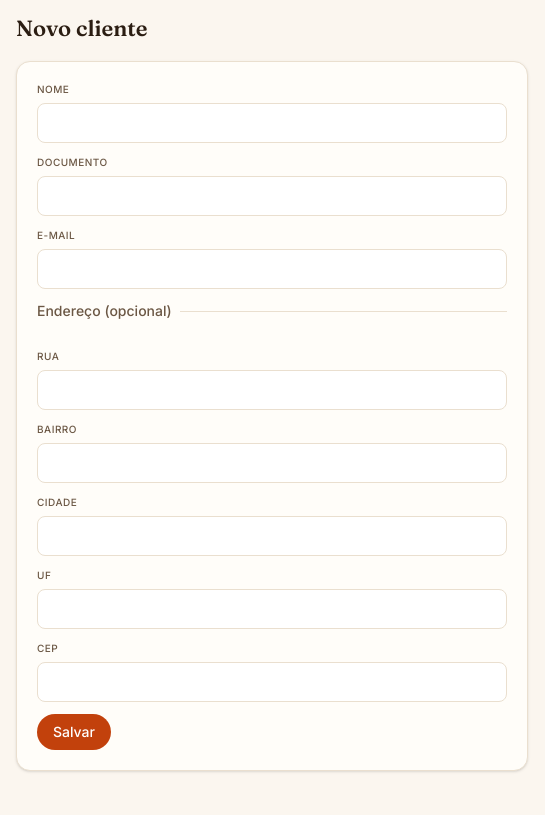
Test case: NewCustomerPage › aFieldErrorLandsOnItsInput
Type "Ana Lima" into the field labelled "Nome" at (272, 123), box x1=37 y1=103 x2=507 y2=143
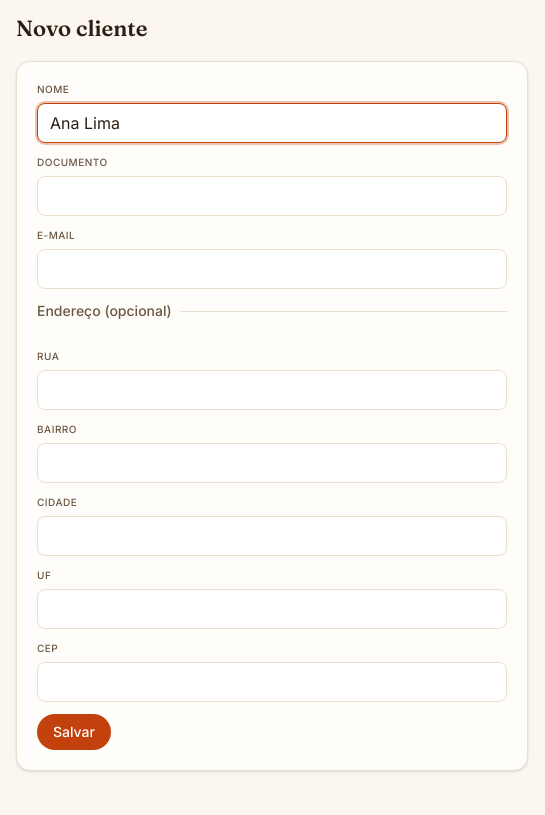
Type "12345678909" into the field labelled "Documento" at (272, 196), box x1=37 y1=176 x2=507 y2=216
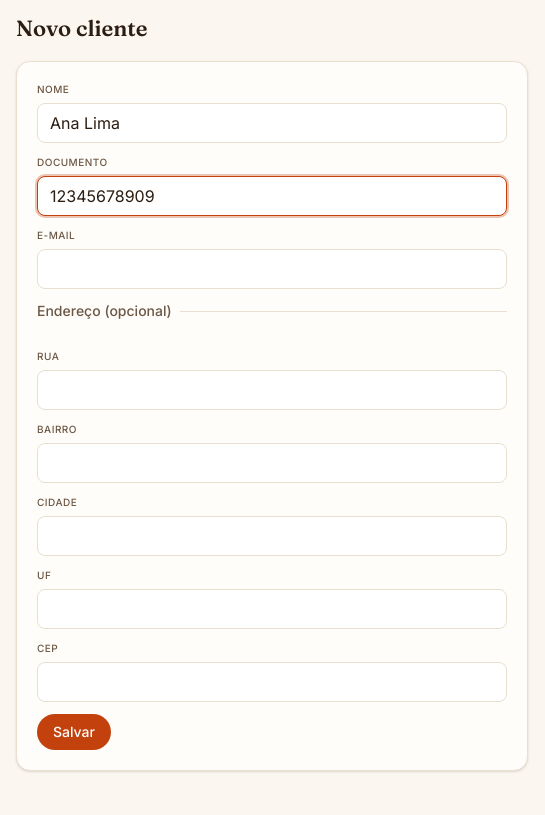
Click the button "Salvar" at (74, 732), box x1=37 y1=714 x2=111 y2=750
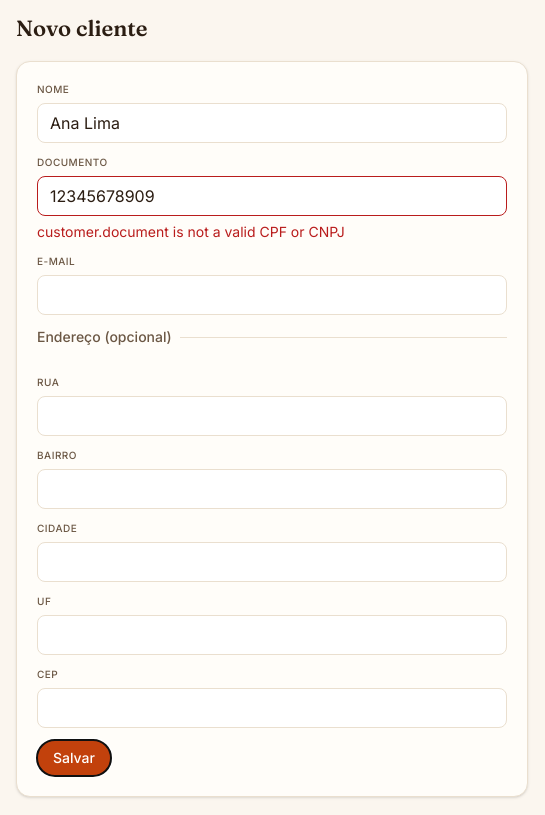
Expected: the text "customer.document is not a valid CPF or CNPJ" is shown, x1=37 y1=223 x2=345 y2=240
